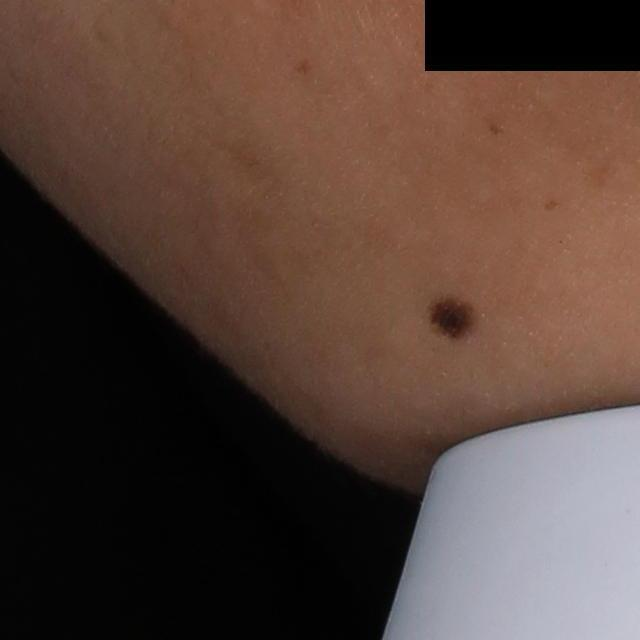nevus: (422, 292, 482, 346)
